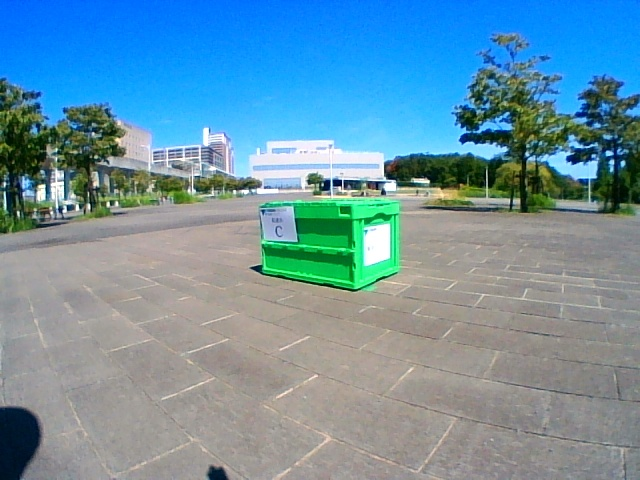green_box: (258, 199, 399, 290)
tag_c: (263, 210, 294, 240)
